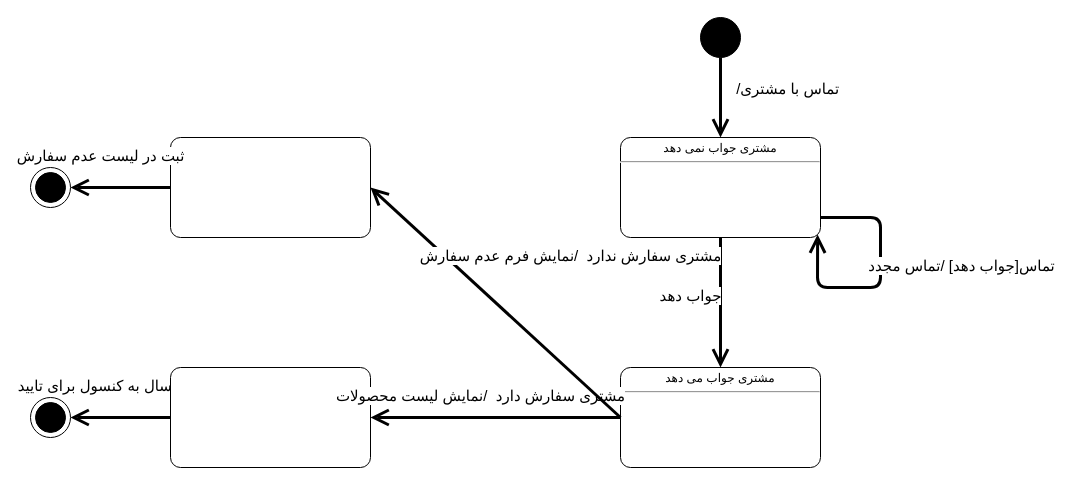
The diagram is 1072 pixels wide and 485 high, and some of its shapes have lost their labels. The centre of each missing label's shape, as x and y in pixels:
"ثبت سفارش مشتری" goes at pixel 270 417.
"عدم سفارش" goes at pixel 270 187.
